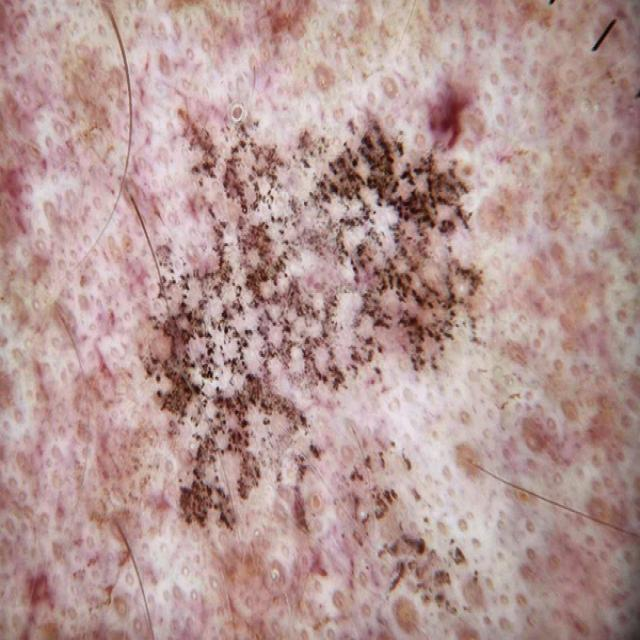Benign-Keratosis-like-Lesions-BKL-: (45, 50, 556, 549)
